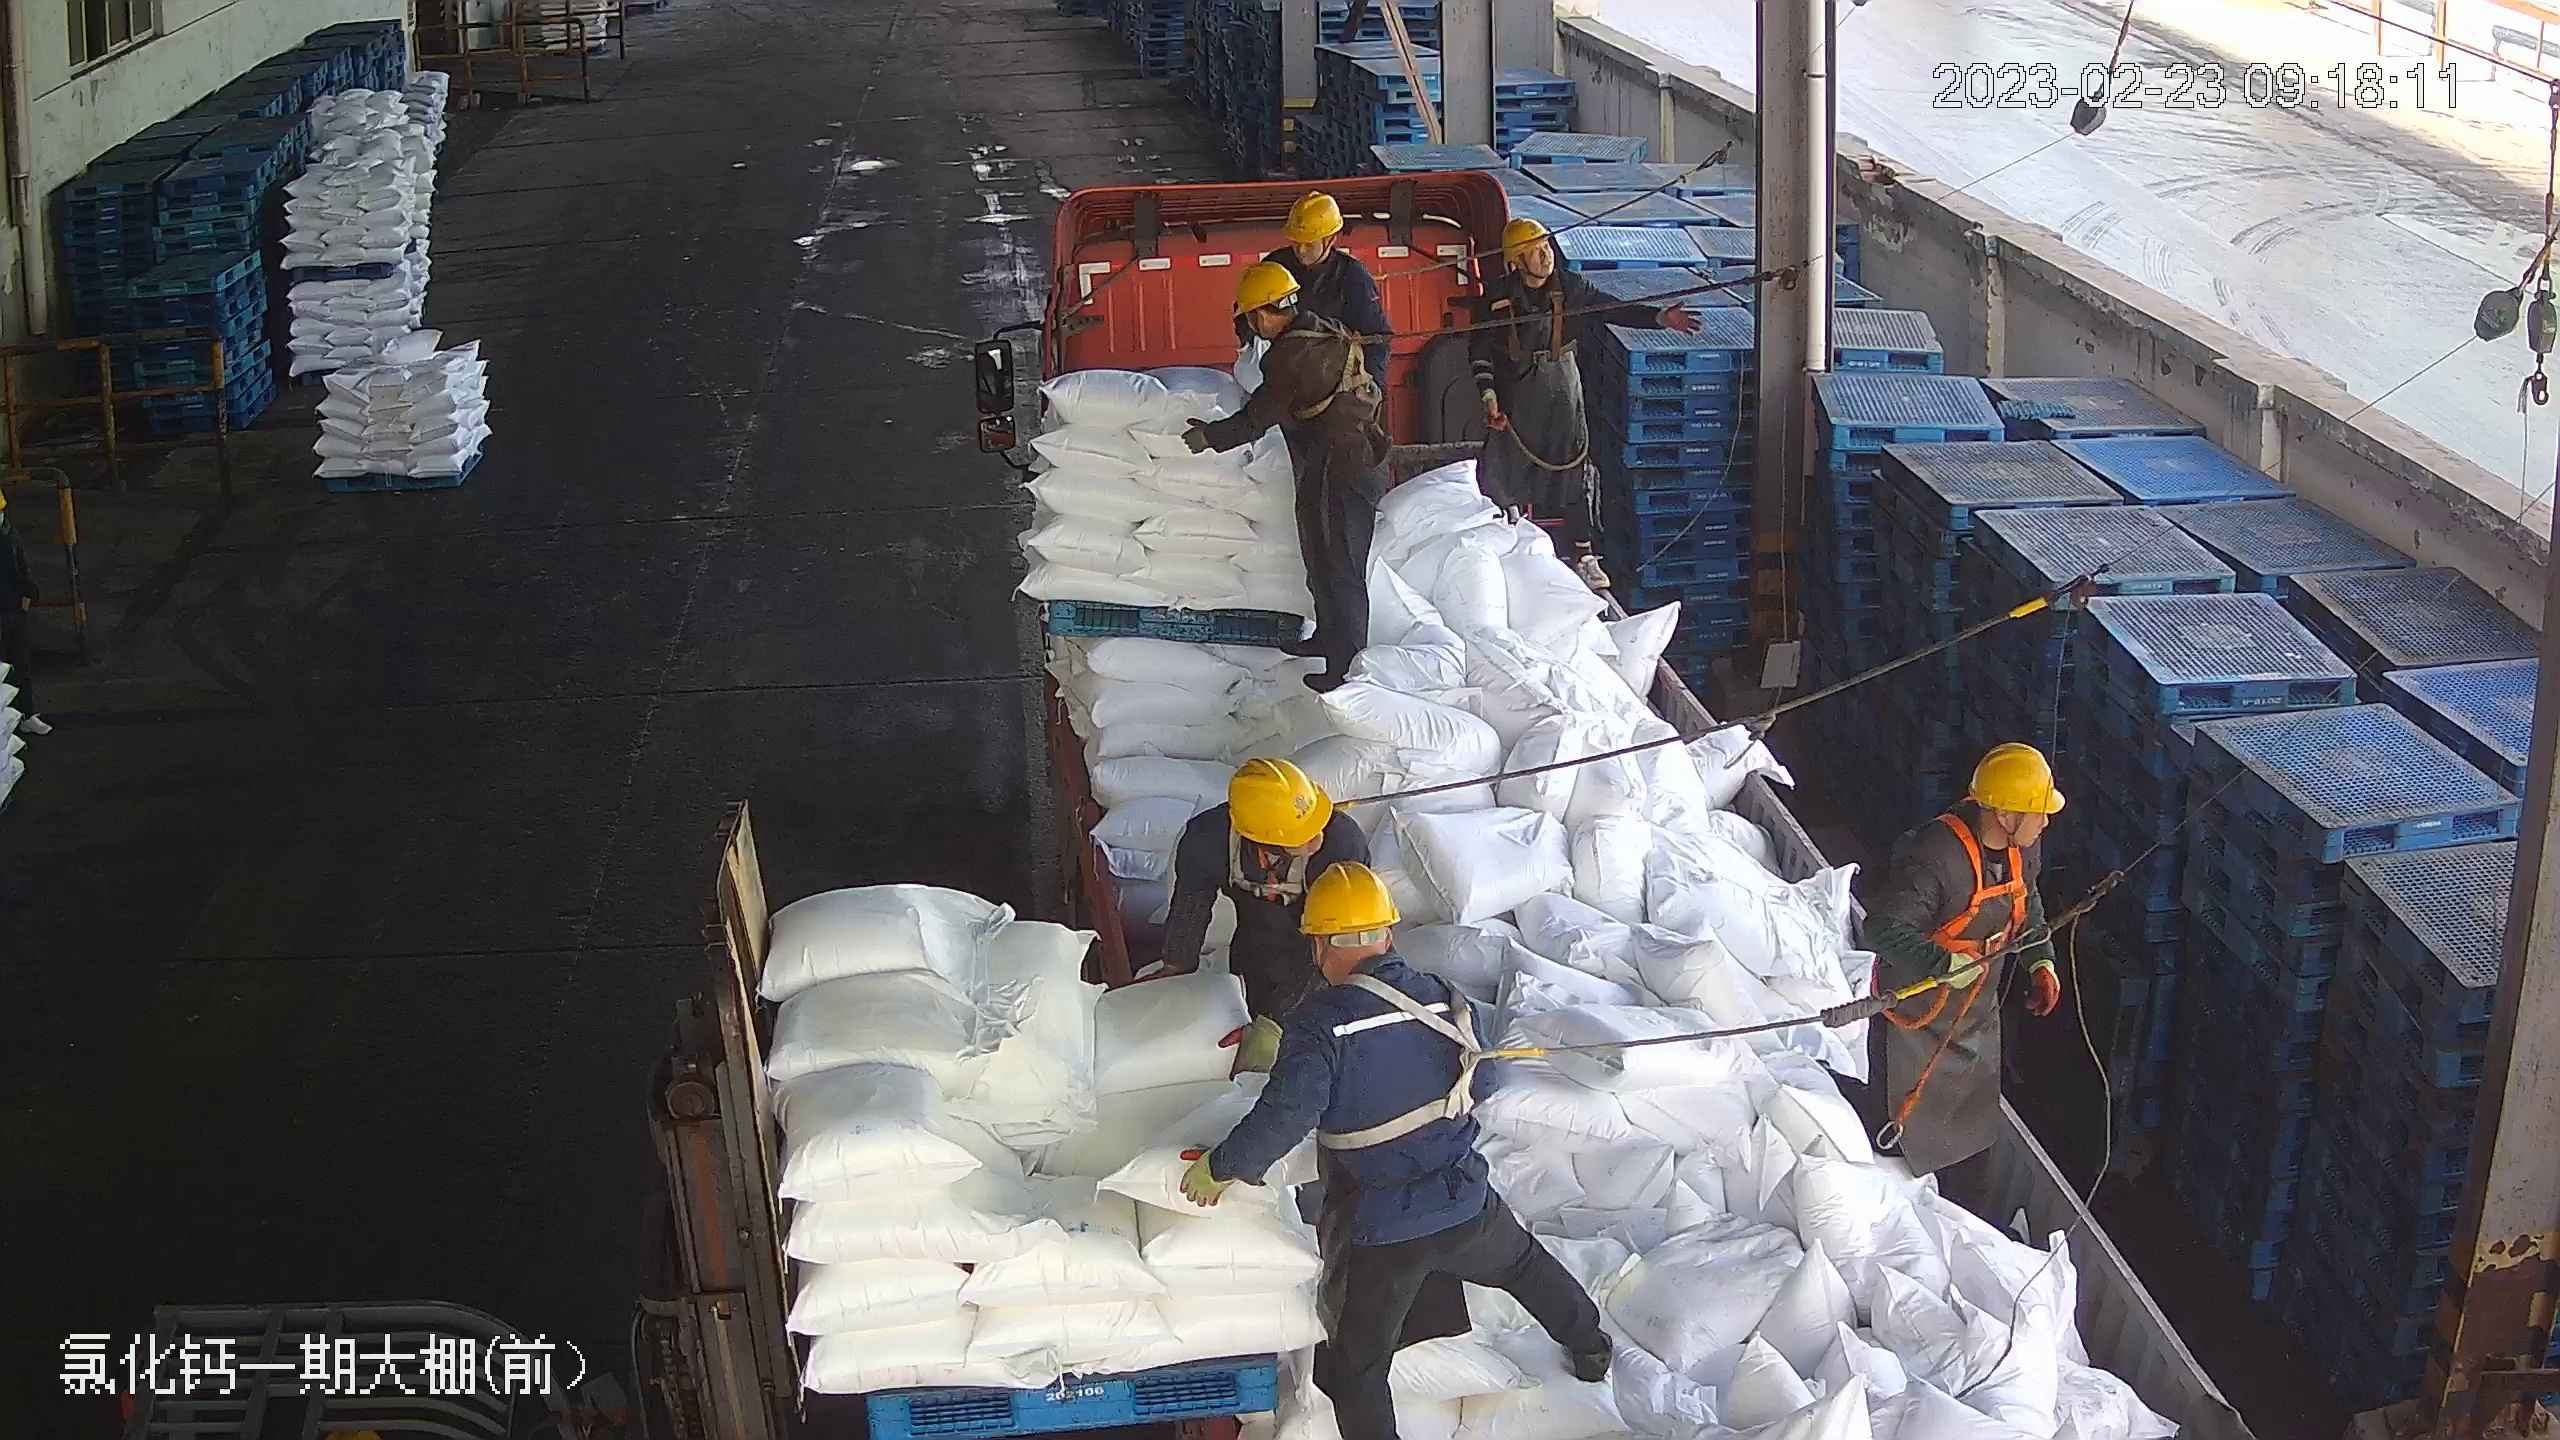belt: (1348, 978, 1543, 1140), (1912, 845, 2035, 994), (1281, 322, 1389, 423), (1226, 848, 1317, 939), (1496, 283, 1582, 370), (1362, 263, 1405, 284)
head: (1290, 865, 1467, 1054), (1905, 739, 2066, 898), (1202, 756, 1356, 879), (1229, 262, 1347, 382)
helmet: (1224, 755, 1332, 846), (1293, 861, 1400, 937), (1965, 739, 2066, 814), (1227, 259, 1301, 313), (1494, 214, 1553, 260)
people: (1196, 857, 1615, 1440), (1831, 738, 2076, 1222), (1182, 264, 1389, 700), (1470, 213, 1697, 604)
truck: (973, 159, 2256, 1440)
